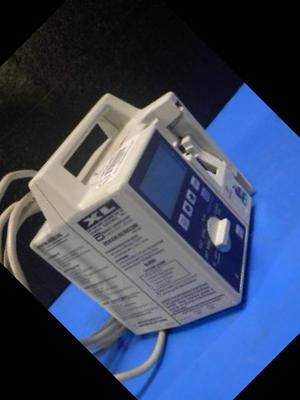plumxl1: (29, 87, 255, 341)
